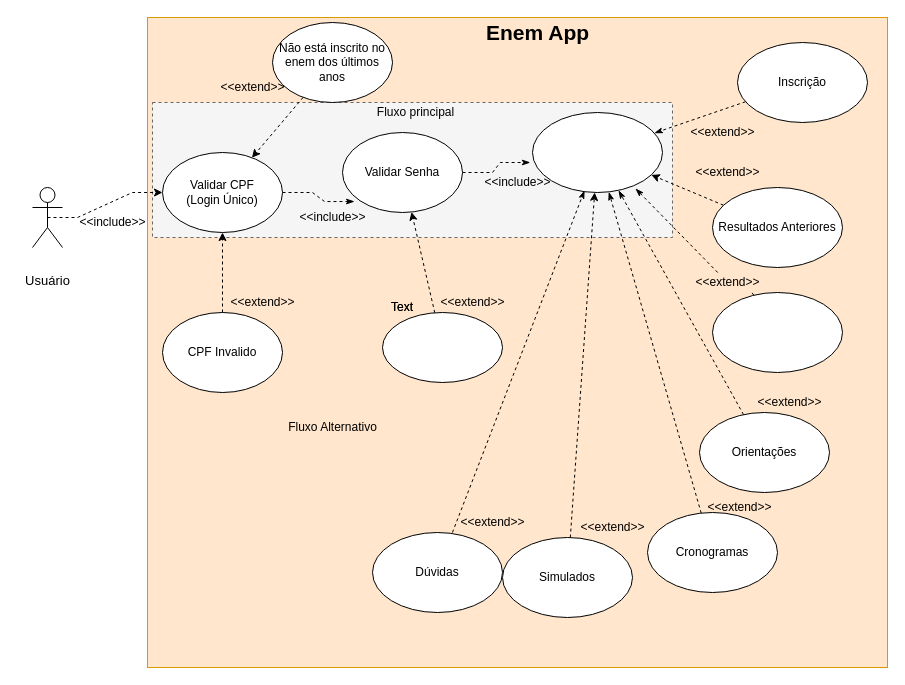
The diagram is 905 pixels wide and 685 high, and some of its shapes have lost their labels. The centre of each missing label's shape, as x and y in pixels:
"Actor" goes at point (47, 217).
"Baixar conteúdo(redação,vista pedagógica)" goes at point (777, 332).
"Interface Principal (Pagina do participante)" goes at point (597, 152).
"Senha inválida" goes at point (442, 347).
